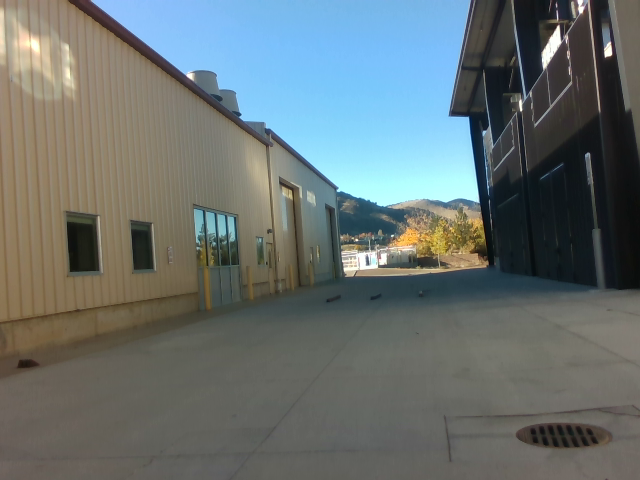dunnage: (323, 288, 427, 307)
